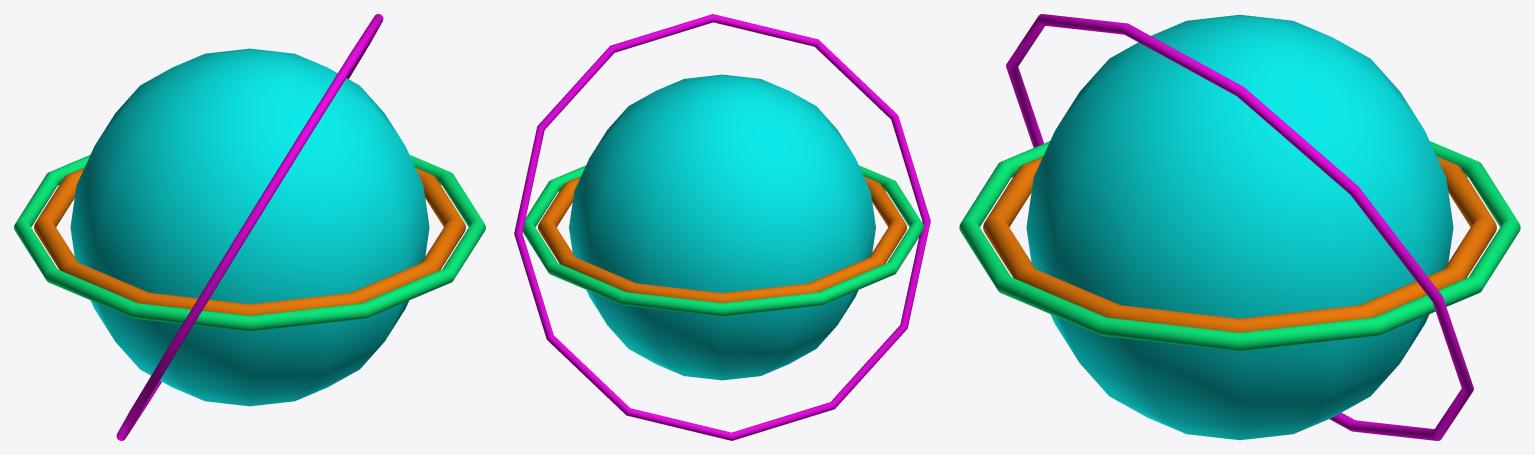
Rendered from Esfera_PowerUp.fbx.
3 views of the same model, side by side, from view 1: azimuth 30°, elevation 25°; view 2: azimuth 150°, elevation 25°; view 3: azimuth 270°, elevation 25° (orthographic). The views are drawn at different scales.
Parts seen in each view (by area): view 1: Esfera, Eixo_Z, Eixo_X, Eixo_Y; view 2: Esfera, Eixo_Y, Eixo_Z, Eixo_X; view 3: Esfera, Eixo_Z, Eixo_X, Eixo_Y.
Boxes of the visible parts, x1,y1,x2,y2 form: Esfera: (70, 48, 429, 406); Eixo_Z: (14, 155, 485, 331); Eixo_X: (34, 167, 465, 315); Eixo_Y: (116, 14, 383, 440); Esfera: (569, 74, 875, 380); Eixo_Y: (514, 14, 930, 440); Eixo_Z: (523, 165, 924, 316); Eixo_X: (538, 176, 906, 302); Esfera: (1026, 14, 1453, 440); Eixo_Z: (959, 141, 1520, 351); Eixo_X: (983, 156, 1496, 332); Eixo_Y: (1006, 14, 1473, 440).
Size of the model in its own units: 2.63 by 2.46 by 2.63.
